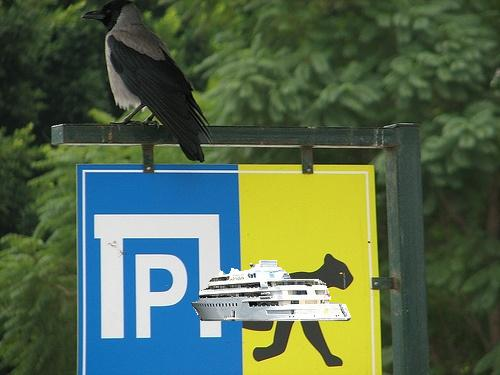tampered: (192, 261, 351, 321)
